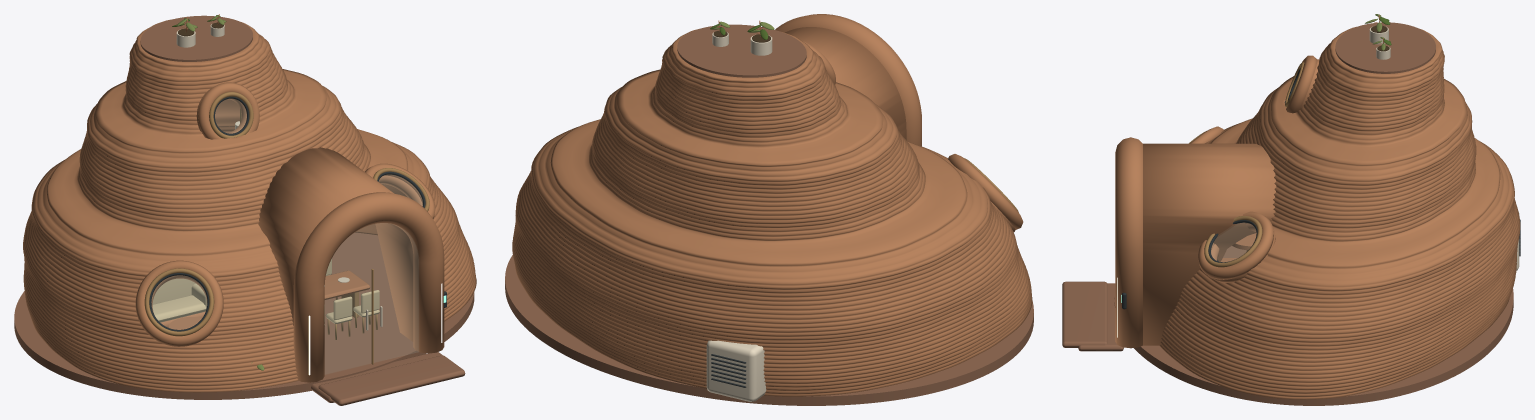
File: 03-terrace-habitat.glb
3 renders of one model, left to right at view 1: azimuth 30°, elevation 25°; view 2: azimuth 150°, elevation 25°; view 3: azimuth 270°, elevation 25°, orthographic. The views are drawn at different scales.
Visible parts, largest first — view 1: Shell / Regolith | printed clay, Foundation / Foundation | baked regolith, Glazing / Glazing | transparent blue-grey, Interior / Upholstery | flax, Frames / Frames | satin bronze, Interior / Furniture | warm composite, Frames / Seals | graphite, Interior / Frames | satin bronze; view 2: Shell / Regolith | printed clay, Foundation / Foundation | baked regolith, Equipment / Equipment | warm ceramic, Equipment / Seals | graphite, Garden / Equipment | warm ceramic; view 3: Shell / Regolith | printed clay, Foundation / Foundation | baked regolith, Glazing / Glazing | transparent blue-grey, Frames / Frames | satin bronze.
Boxes of the visible parts, x1=… form: Shell / Regolith | printed clay: x1=23, y1=19, x2=476, y2=392; Foundation / Foundation | baked regolith: x1=14, y1=15, x2=474, y2=405; Glazing / Glazing | transparent blue-grey: x1=152, y1=99, x2=422, y2=373; Interior / Upholstery | flax: x1=152, y1=258, x2=379, y2=325; Frames / Frames | satin bronze: x1=144, y1=91, x2=429, y2=364; Interior / Furniture | warm composite: x1=160, y1=270, x2=369, y2=329; Frames / Seals | graphite: x1=149, y1=96, x2=425, y2=331; Interior / Frames | satin bronze: x1=327, y1=292, x2=377, y2=339; Shell / Regolith | printed clay: x1=512, y1=14, x2=1032, y2=396; Foundation / Foundation | baked regolith: x1=505, y1=24, x2=1033, y2=405; Equipment / Equipment | warm ceramic: x1=706, y1=340, x2=766, y2=401; Equipment / Seals | graphite: x1=711, y1=354, x2=746, y2=387; Garden / Equipment | warm ceramic: x1=712, y1=32, x2=772, y2=55; Shell / Regolith | printed clay: x1=1115, y1=26, x2=1520, y2=399; Foundation / Foundation | baked regolith: x1=1062, y1=22, x2=1513, y2=405; Glazing / Glazing | transparent blue-grey: x1=1211, y1=223, x2=1255, y2=261; Frames / Frames | satin bronze: x1=1189, y1=62, x2=1304, y2=267.
Size of the model in its own units: 10.62 by 6.69 by 10.02.
Materials: 13 (1 with a texture image).
